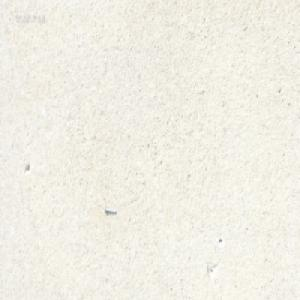Nail: (103, 206, 118, 215)
